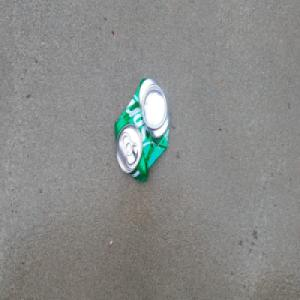SodaCan: (113, 76, 170, 183)
